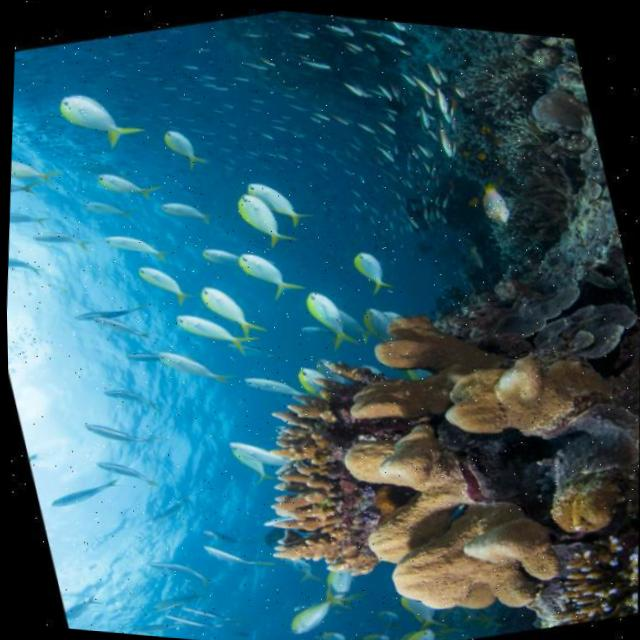Healthy Coral: (305, 285, 496, 527), (340, 469, 572, 640), (226, 390, 360, 584), (429, 325, 604, 454), (536, 512, 640, 628)
